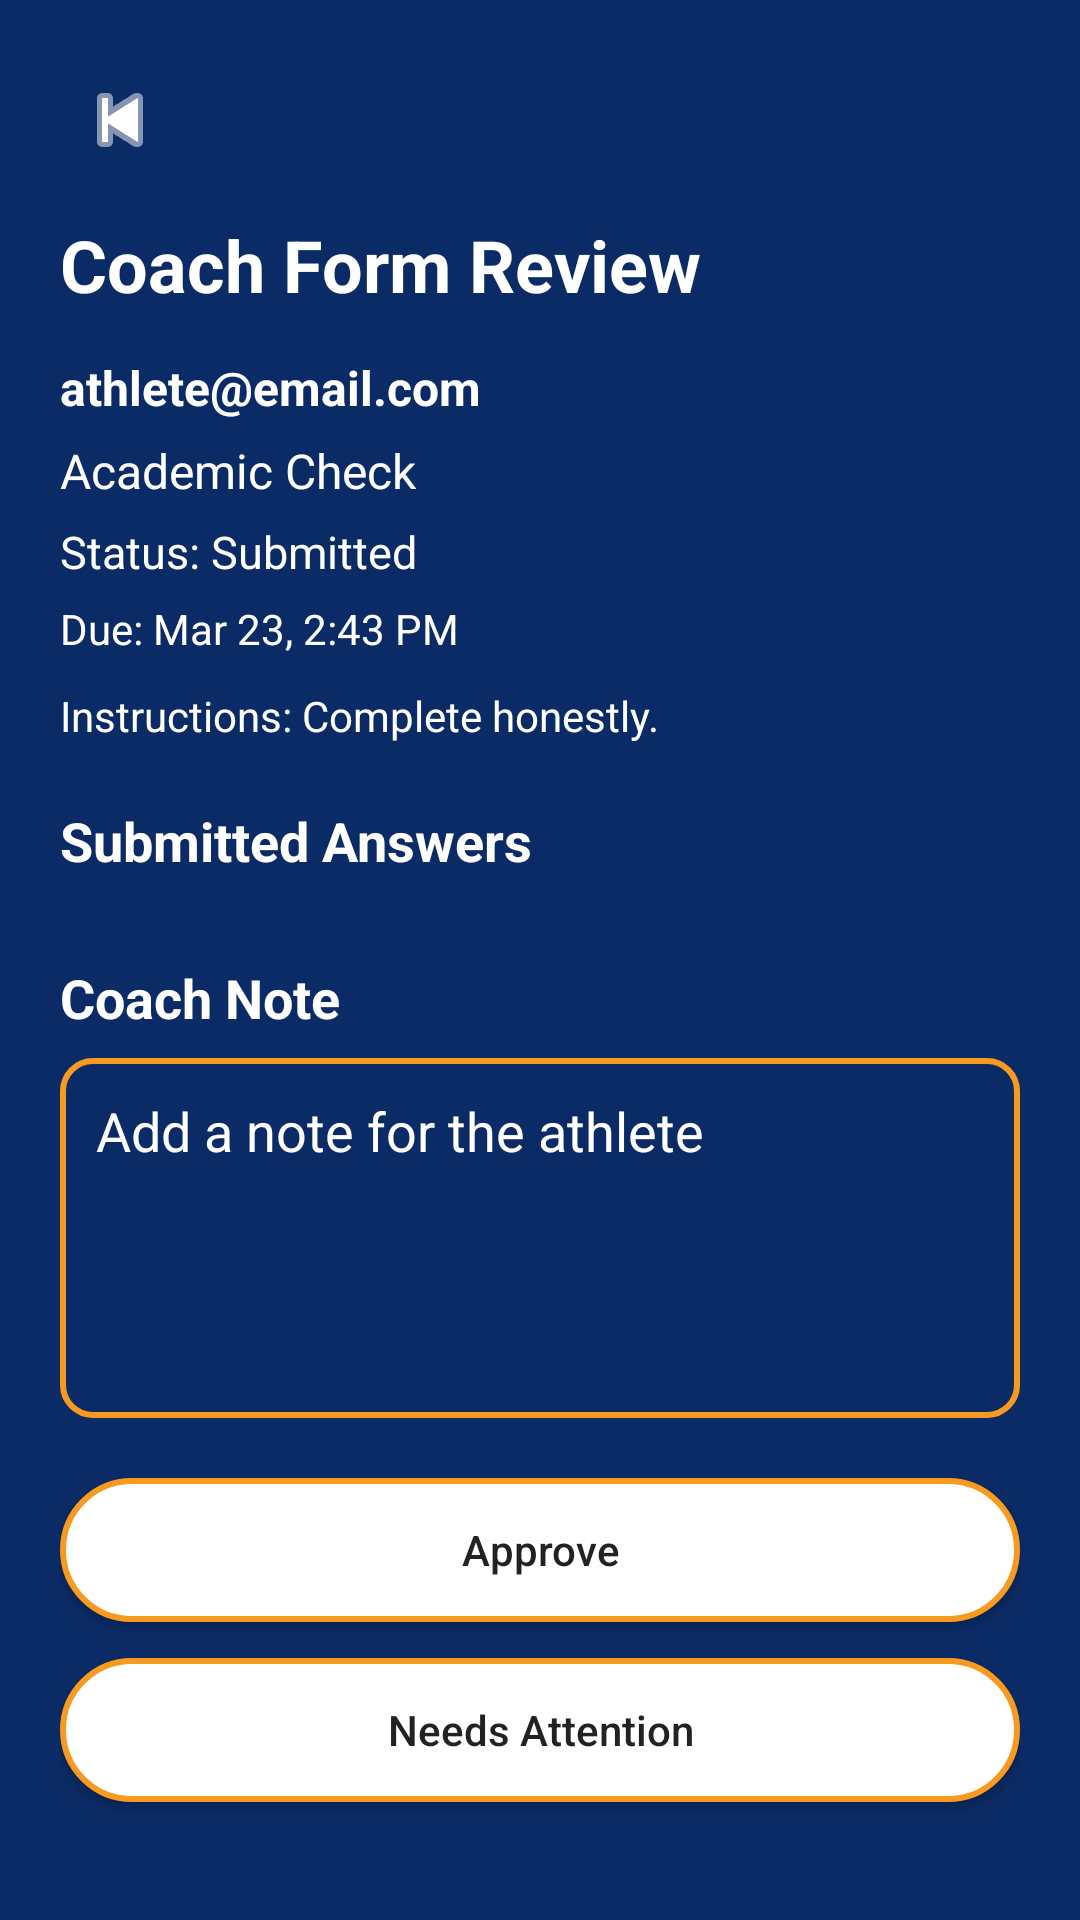

Icons on this 1080px×1920px Android screen, each with its box as (x1=x1, y1=y1, x2=x2, y2=y2):
Back: (x1=97, y1=93, x2=143, y2=147)
